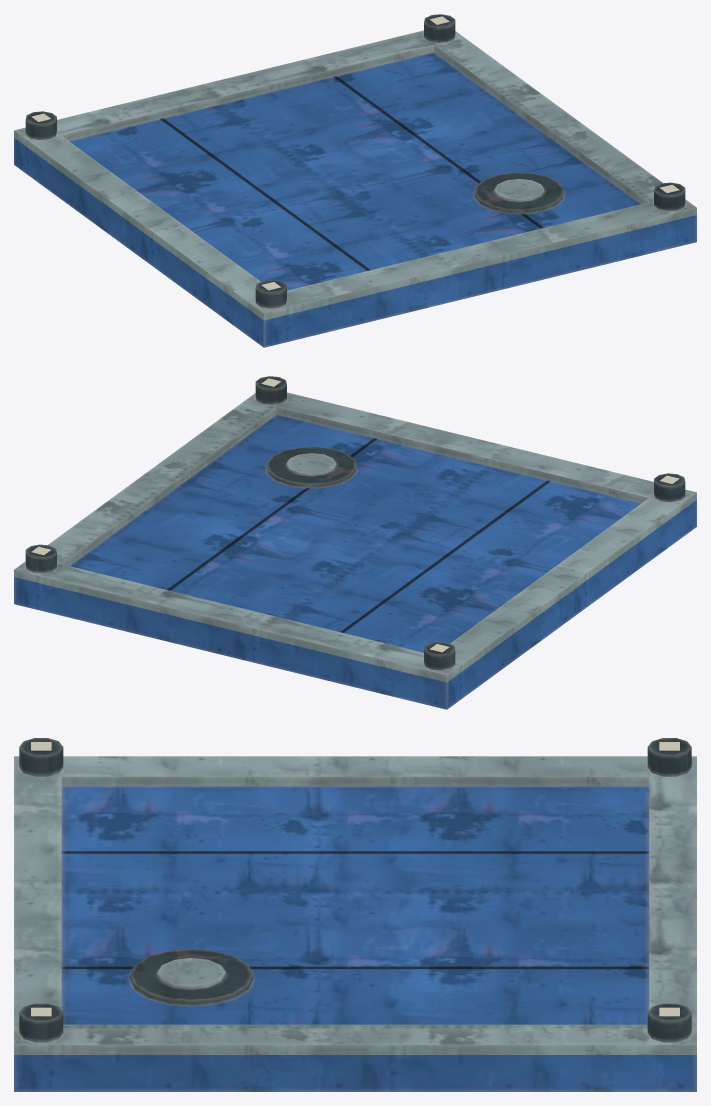
Rendered from hull_platform_underwater.glb.
3 renders of one model, top to bottom at view 1: azimuth 30°, elevation 25°; view 2: azimuth 150°, elevation 25°; view 3: azimuth 270°, elevation 25°, orthographic. The views are drawn at different scales.
Parts seen in each view (by area): view 1: te_hull_platform_underwater; view 2: te_hull_platform_underwater; view 3: te_hull_platform_underwater.
Part boxes in pixels (left/top/right/bottom): te_hull_platform_underwater: left=14, top=14, right=696, bottom=347; te_hull_platform_underwater: left=14, top=376, right=696, bottom=709; te_hull_platform_underwater: left=14, top=738, right=696, bottom=1091.
Size of the model in its own units: 1 by 0.1106 by 1.
1 material, 1 textured.
